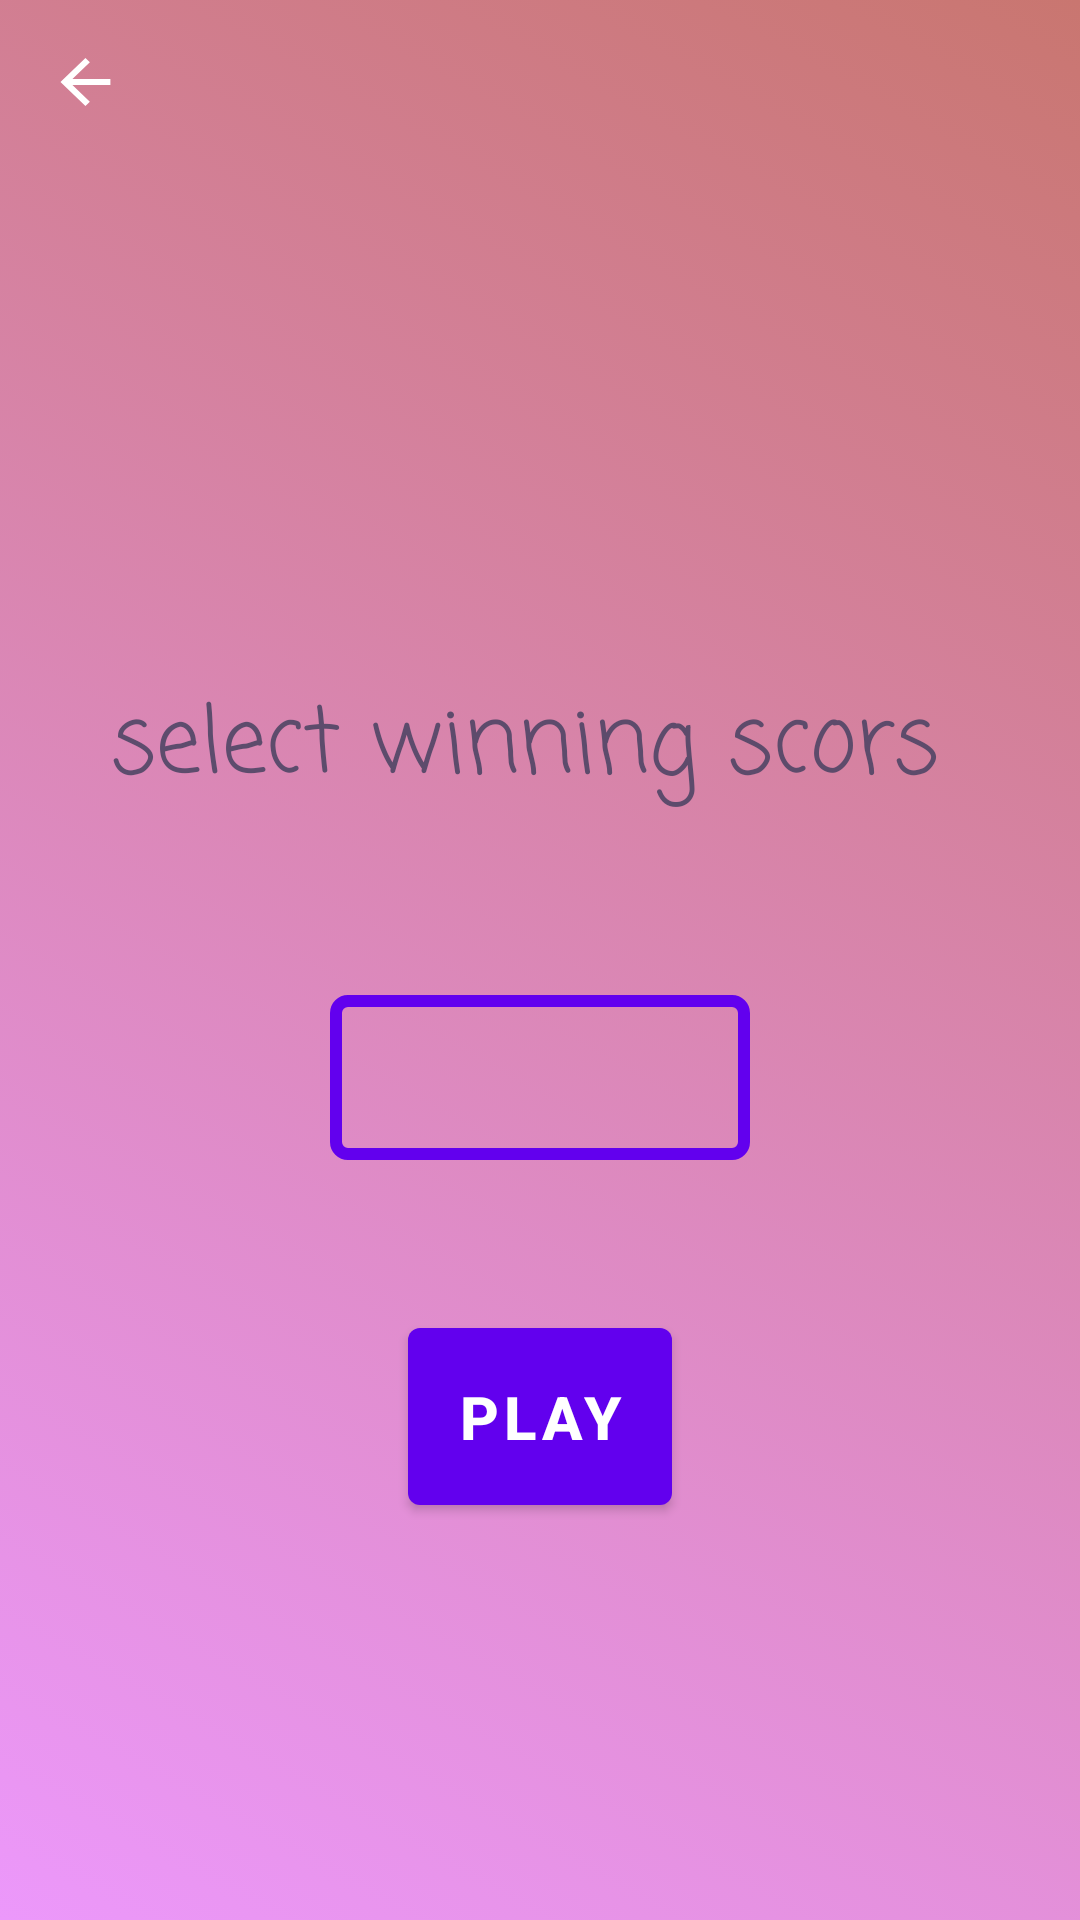

Icons on this 1080w x 1920h Android screen, each with its box as (x1, y1, x2, y2):
this Button for back: (61, 58, 111, 106)
